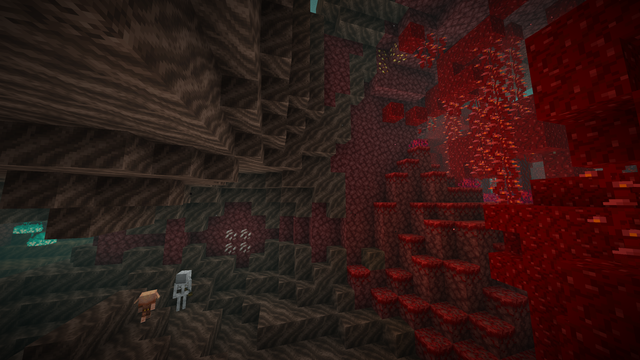nethergold: (378, 43, 408, 75)
quartz: (223, 227, 252, 256)
